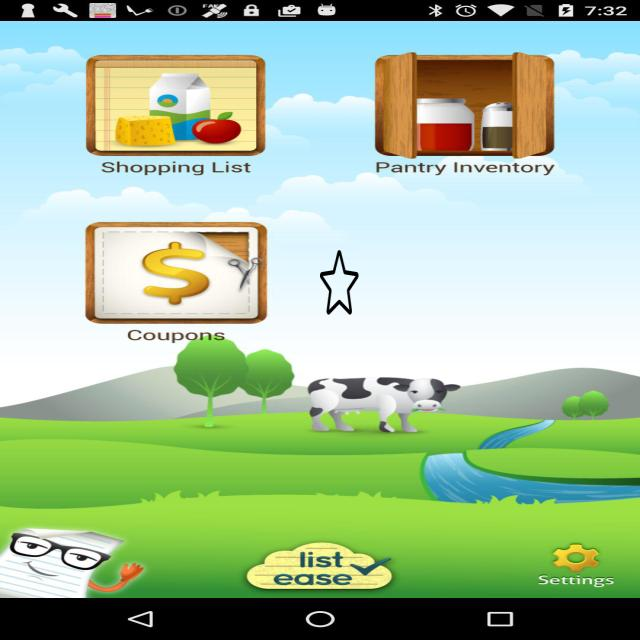forced continuity: (320, 249, 359, 316)
